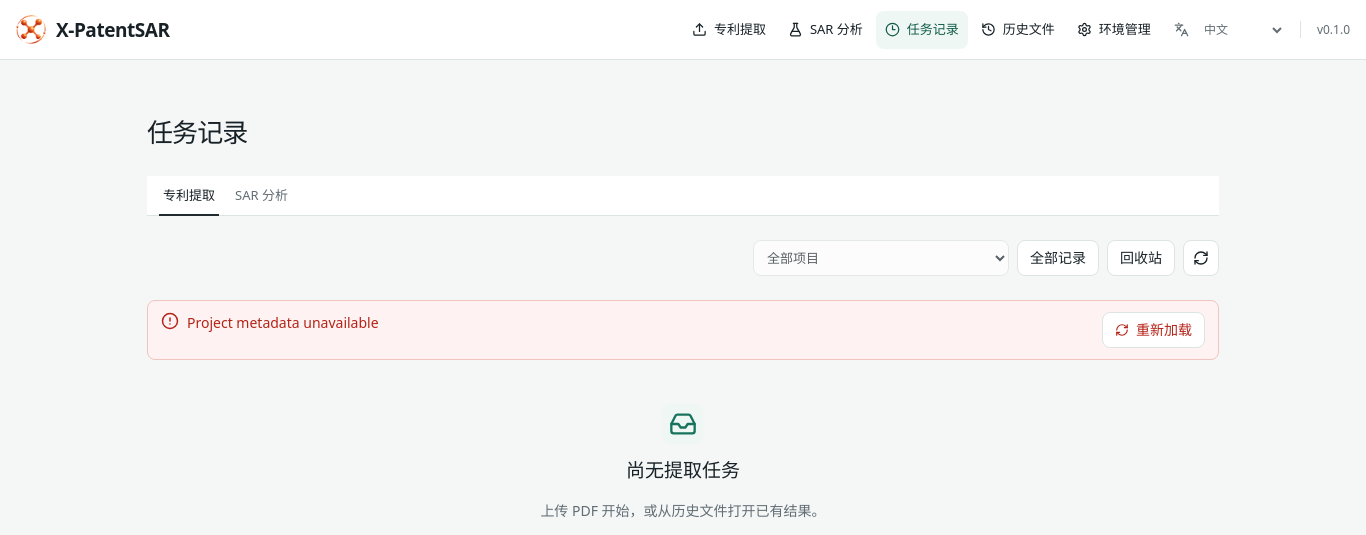
Scenario: shows project-read failure with explicit retry instead of silently treating it as an empty list
The width and height of the screenshot is (1366, 535).
Expected: the message shows "Project metadata unavailable", 187,313 -> 379,332
Expected: the dropdown named "筛选任务所属项目" is disabled, 753,240 -> 1009,276
Click the button "重新加载".
click(1154, 330)  # box 1102,312 -> 1205,348
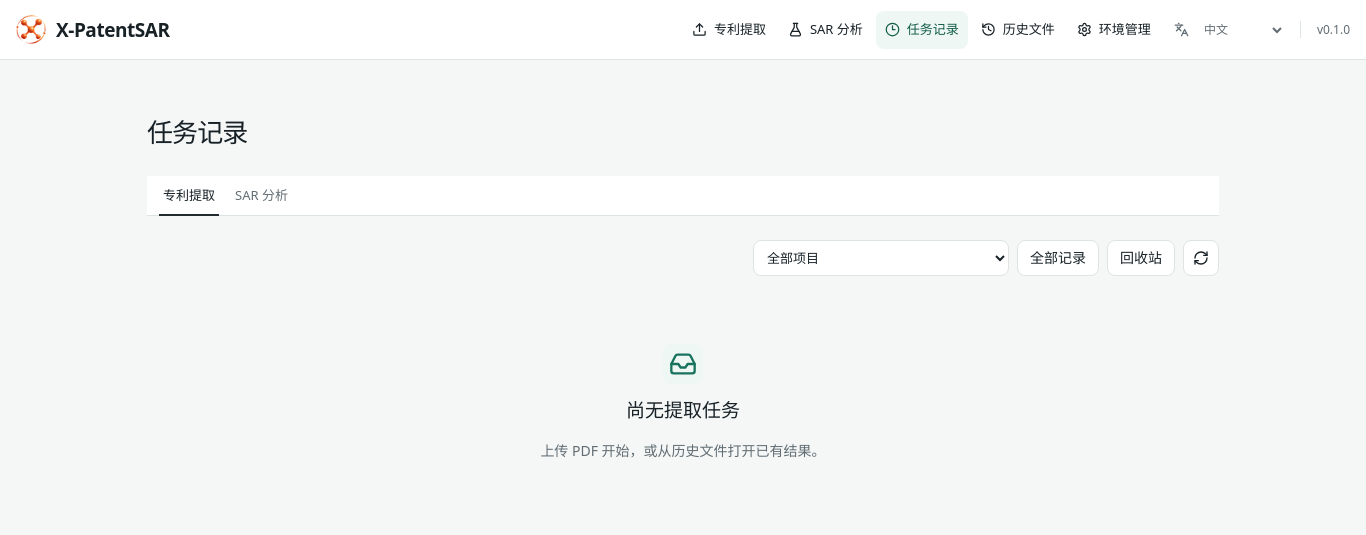
Expected: the dropdown named "筛选任务所属项目" is enabled, 753,240 -> 1009,276
Expected: the message "Project metadata unavailable 重新加载" is gone
